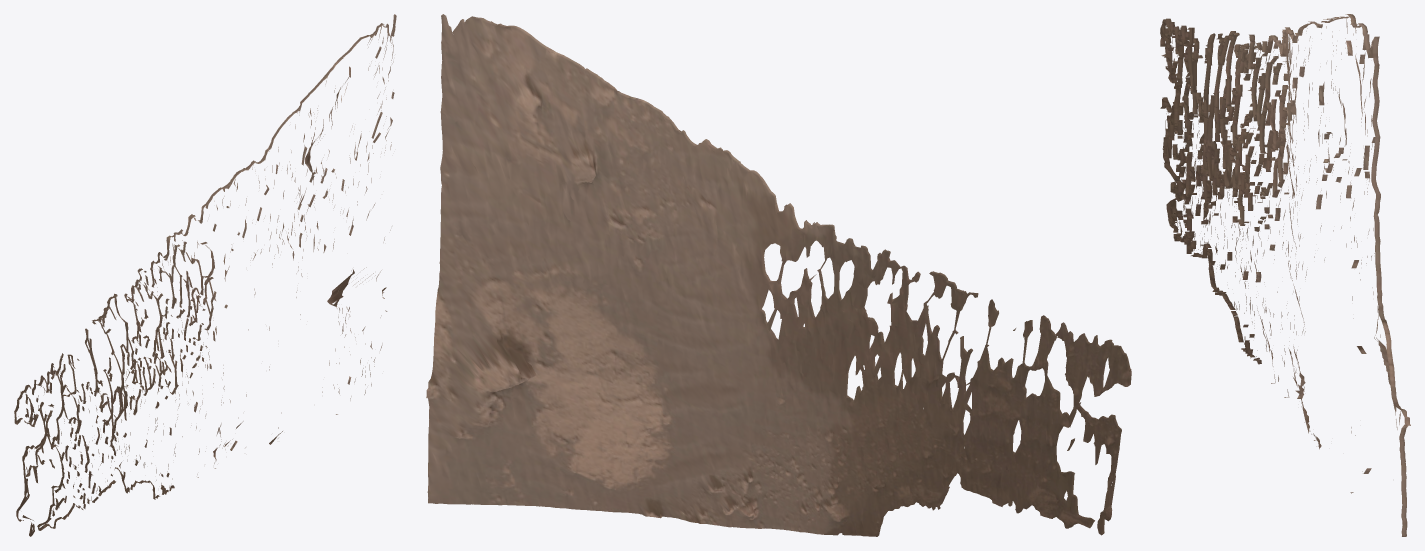
3 renders of one model, left to right at view 1: azimuth 30°, elevation 25°; view 2: azimuth 150°, elevation 25°; view 3: azimuth 270°, elevation 25°, orthographic. The views are drawn at different scales.
Bounding box in the file's own units: 2.09 × 1.63 × 0.7399.
1 material, 1 textured.
